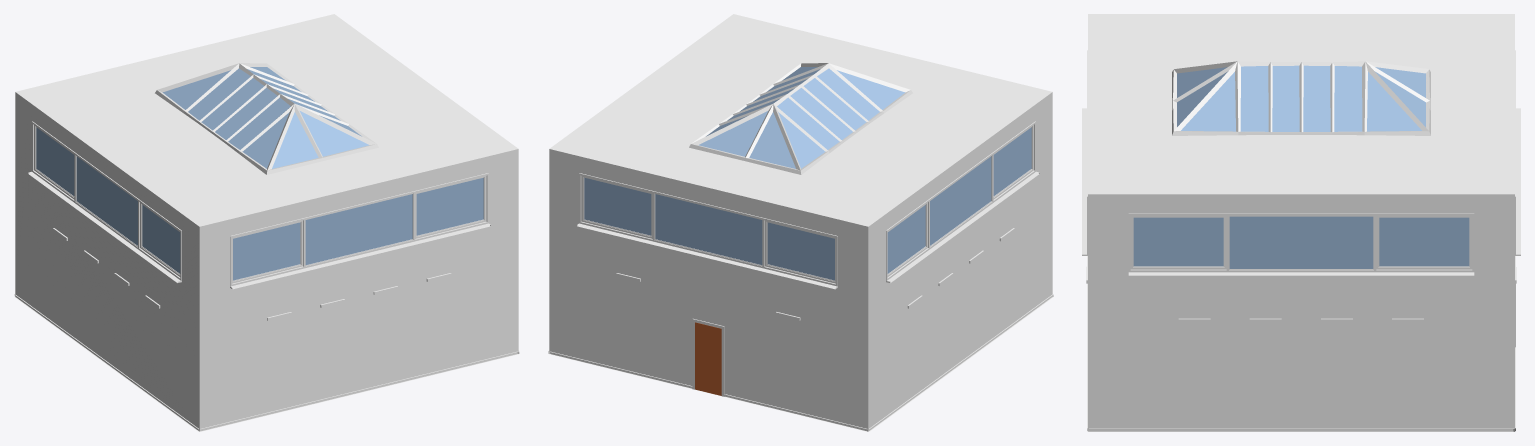
The model's file is MaschinenbauLab.fbx.
The picture shows the model from 3 angles, left to right: view 1: azimuth 30°, elevation 25°; view 2: azimuth 150°, elevation 25°; view 3: azimuth 270°, elevation 25°; orthographic projection. The views are drawn at different scales.
Visible parts, largest first — view 1: Lab, Windows; view 2: Lab, Windows; view 3: Lab, Windows.
Boxes of the visible parts, bbox=[...] form: Lab: bbox=[14, 14, 519, 431]; Windows: bbox=[36, 67, 483, 280]; Lab: bbox=[548, 14, 1053, 431]; Windows: bbox=[584, 67, 1031, 280]; Lab: bbox=[1082, 14, 1520, 431]; Windows: bbox=[1133, 65, 1469, 268].
Size of the model in its own units: 12.34 by 8.69 by 12.34.
